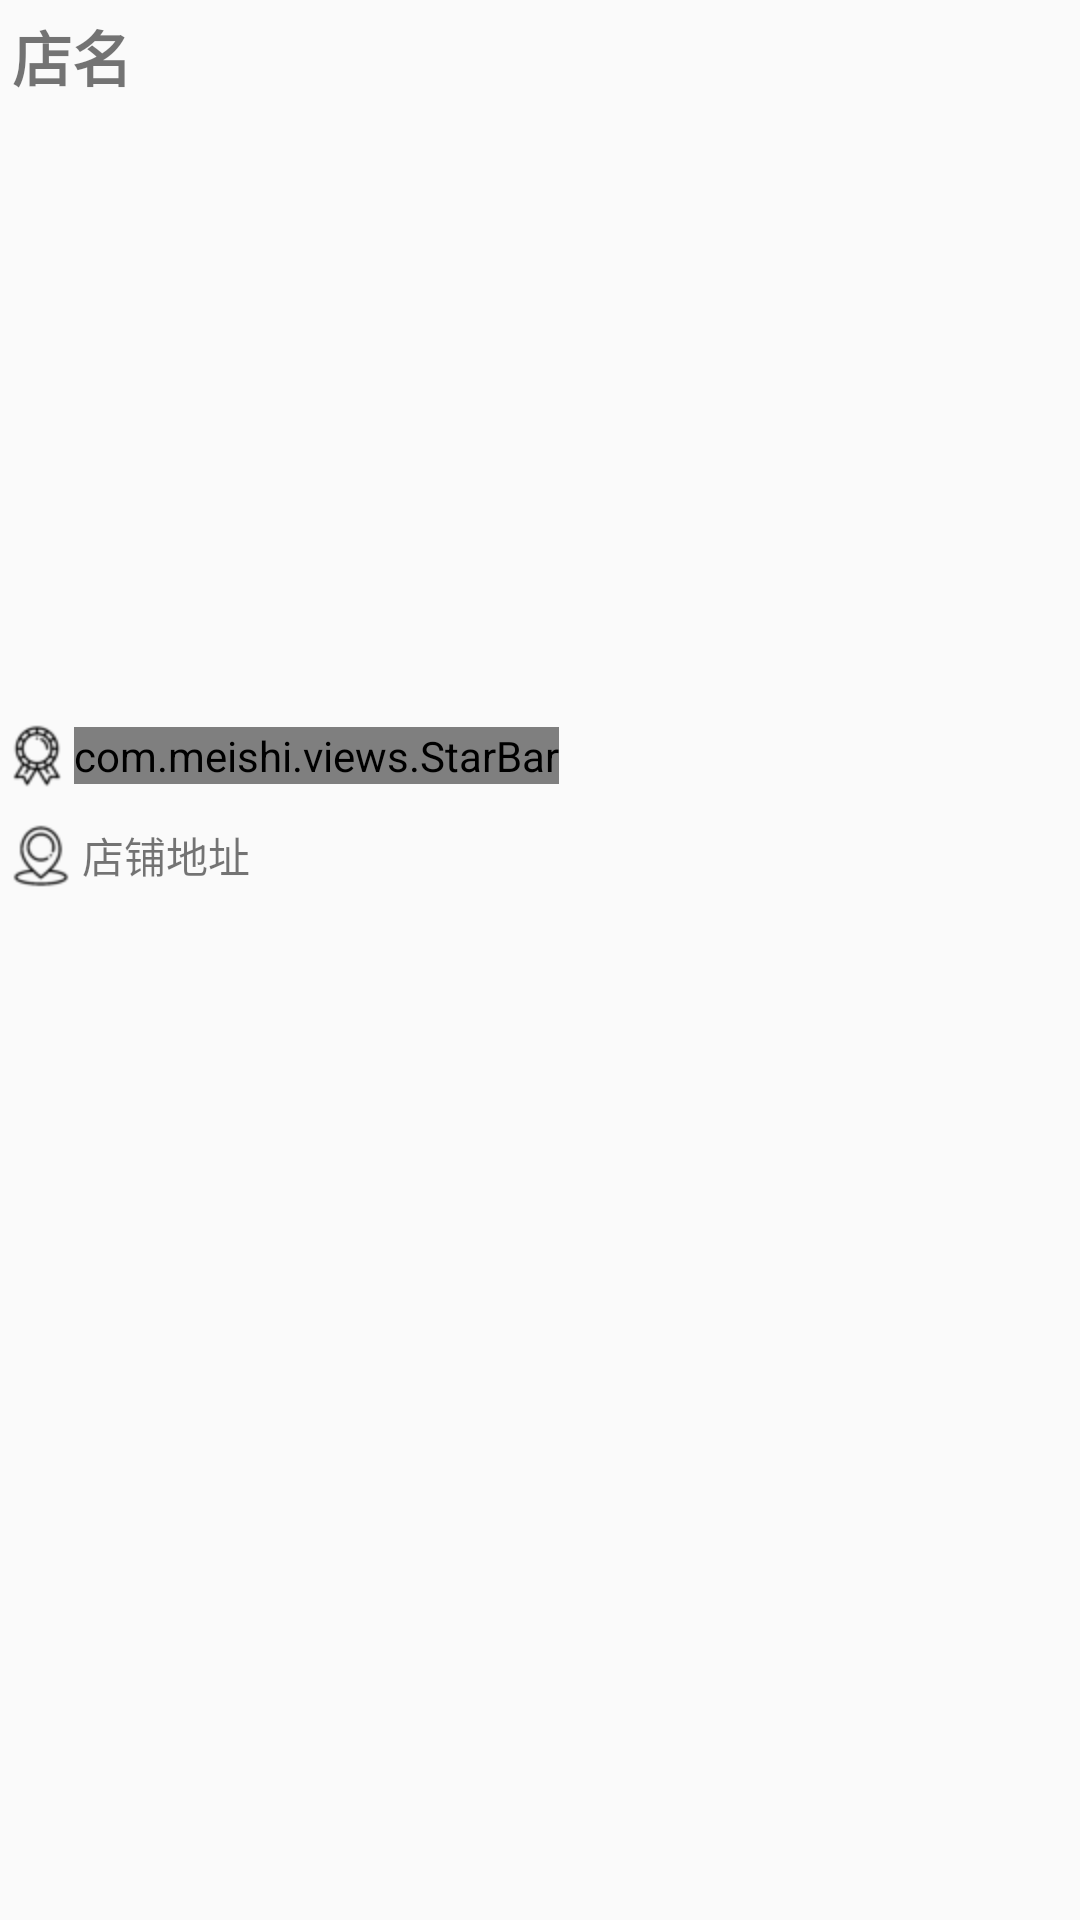

Named icons in this screenshot (1080*1920) and their bounding boxes, bbox(x1, y1, x2, y2):
location: bbox(13, 825, 69, 887)
medal: bbox(13, 725, 61, 786)
